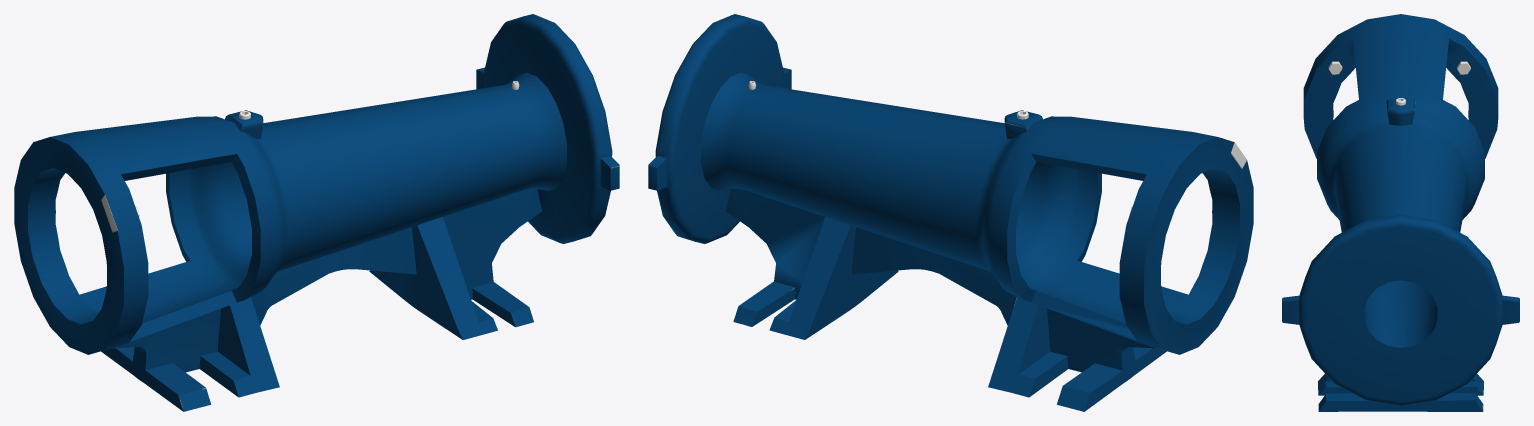
File: Pump@ShaftHousing.fbx
3 renders of one model, left to right at view 1: azimuth 30°, elevation 25°; view 2: azimuth 150°, elevation 25°; view 3: azimuth 270°, elevation 25°, orthographic. The views are drawn at different scales.
Visible parts, largest first — view 1: ShaftHousing.001; view 2: ShaftHousing.001; view 3: ShaftHousing.001.
Boxes of the visible parts, x1,y1,x2,y2 form: ShaftHousing.001: (14, 14, 619, 411); ShaftHousing.001: (648, 14, 1253, 411); ShaftHousing.001: (1282, 14, 1519, 411).
Bounding box in the file's own units: 308 × 154 × 147.
